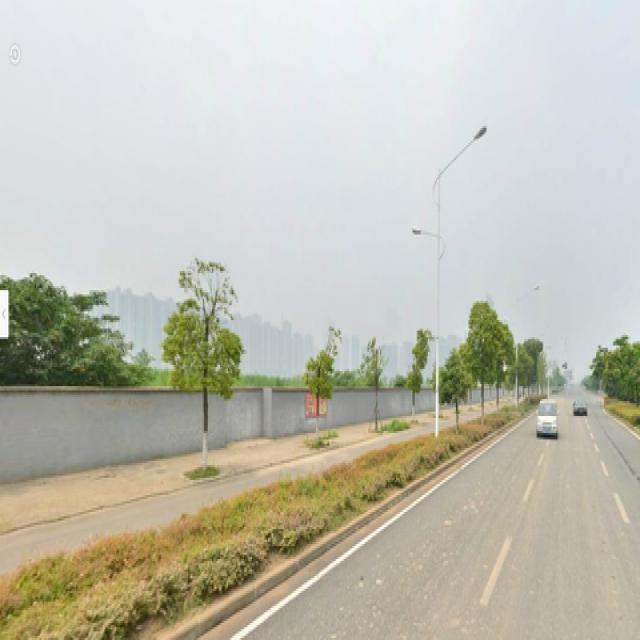cinn: (165, 256, 240, 452)
